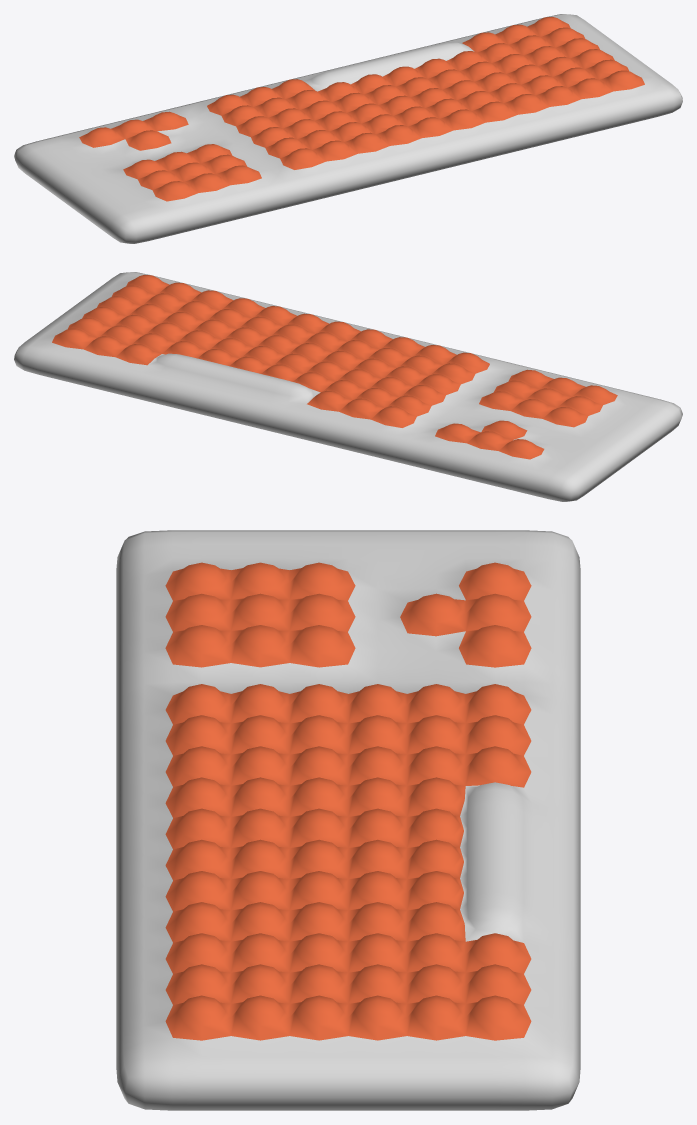
Rendered from Keyboard2.fbx.
3 renders of one model, top to bottom at view 1: azimuth 30°, elevation 25°; view 2: azimuth 150°, elevation 25°; view 3: azimuth 270°, elevation 25°, orthographic. The views are drawn at different scales.
Visible parts, largest first — view 1: Cube.087; view 2: Cube.087; view 3: Cube.087.
Boxes of the visible parts, <box> form: Cube.087: <box>14,14,682,243</box>; Cube.087: <box>14,272,682,501</box>; Cube.087: <box>116,530,580,1110</box>.
Bounding box in the file's own units: 64.95 × 4.23 × 23.06.
